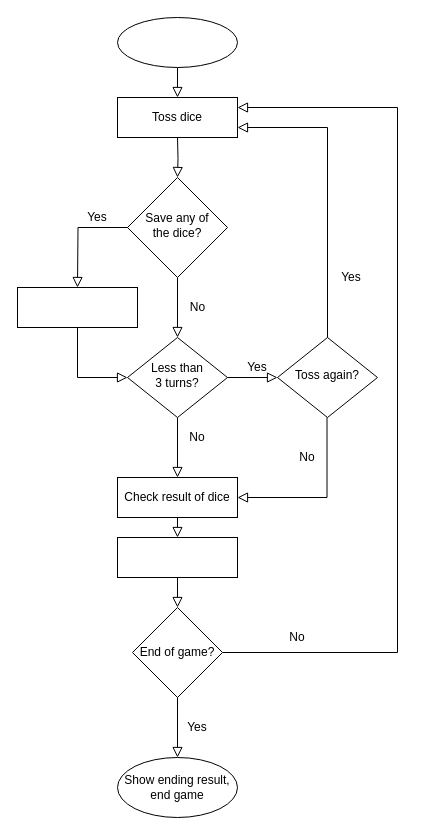
Some shapes in this 425 by 835 pixel diagram are drawn without their labels. Here are the shapes that lost their labels. From the top down, the centre of each, then its label:
(177,42): Game starts
(77,307): Save chosen dice
(177,557): Choose save slot
